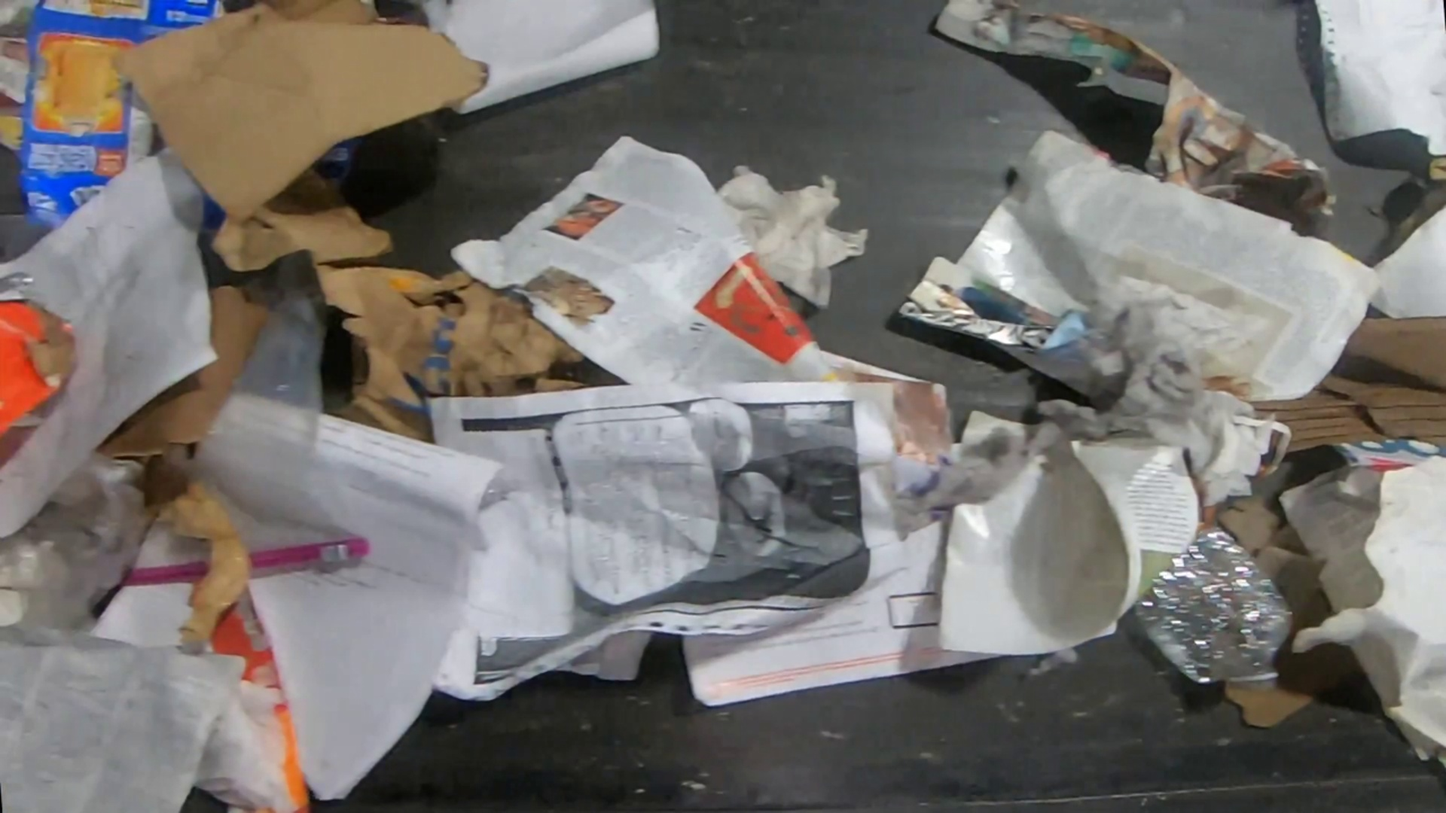cardboard: (207, 162, 594, 444), (107, 0, 486, 225), (1214, 492, 1366, 731), (97, 283, 263, 465), (1241, 316, 1446, 454), (0, 300, 76, 444), (1390, 155, 1446, 251), (317, 137, 361, 192)
metal: (0, 270, 39, 302)
plastic: (192, 249, 375, 573), (0, 443, 200, 639), (1132, 524, 1295, 691), (153, 477, 254, 645), (123, 524, 206, 587)
